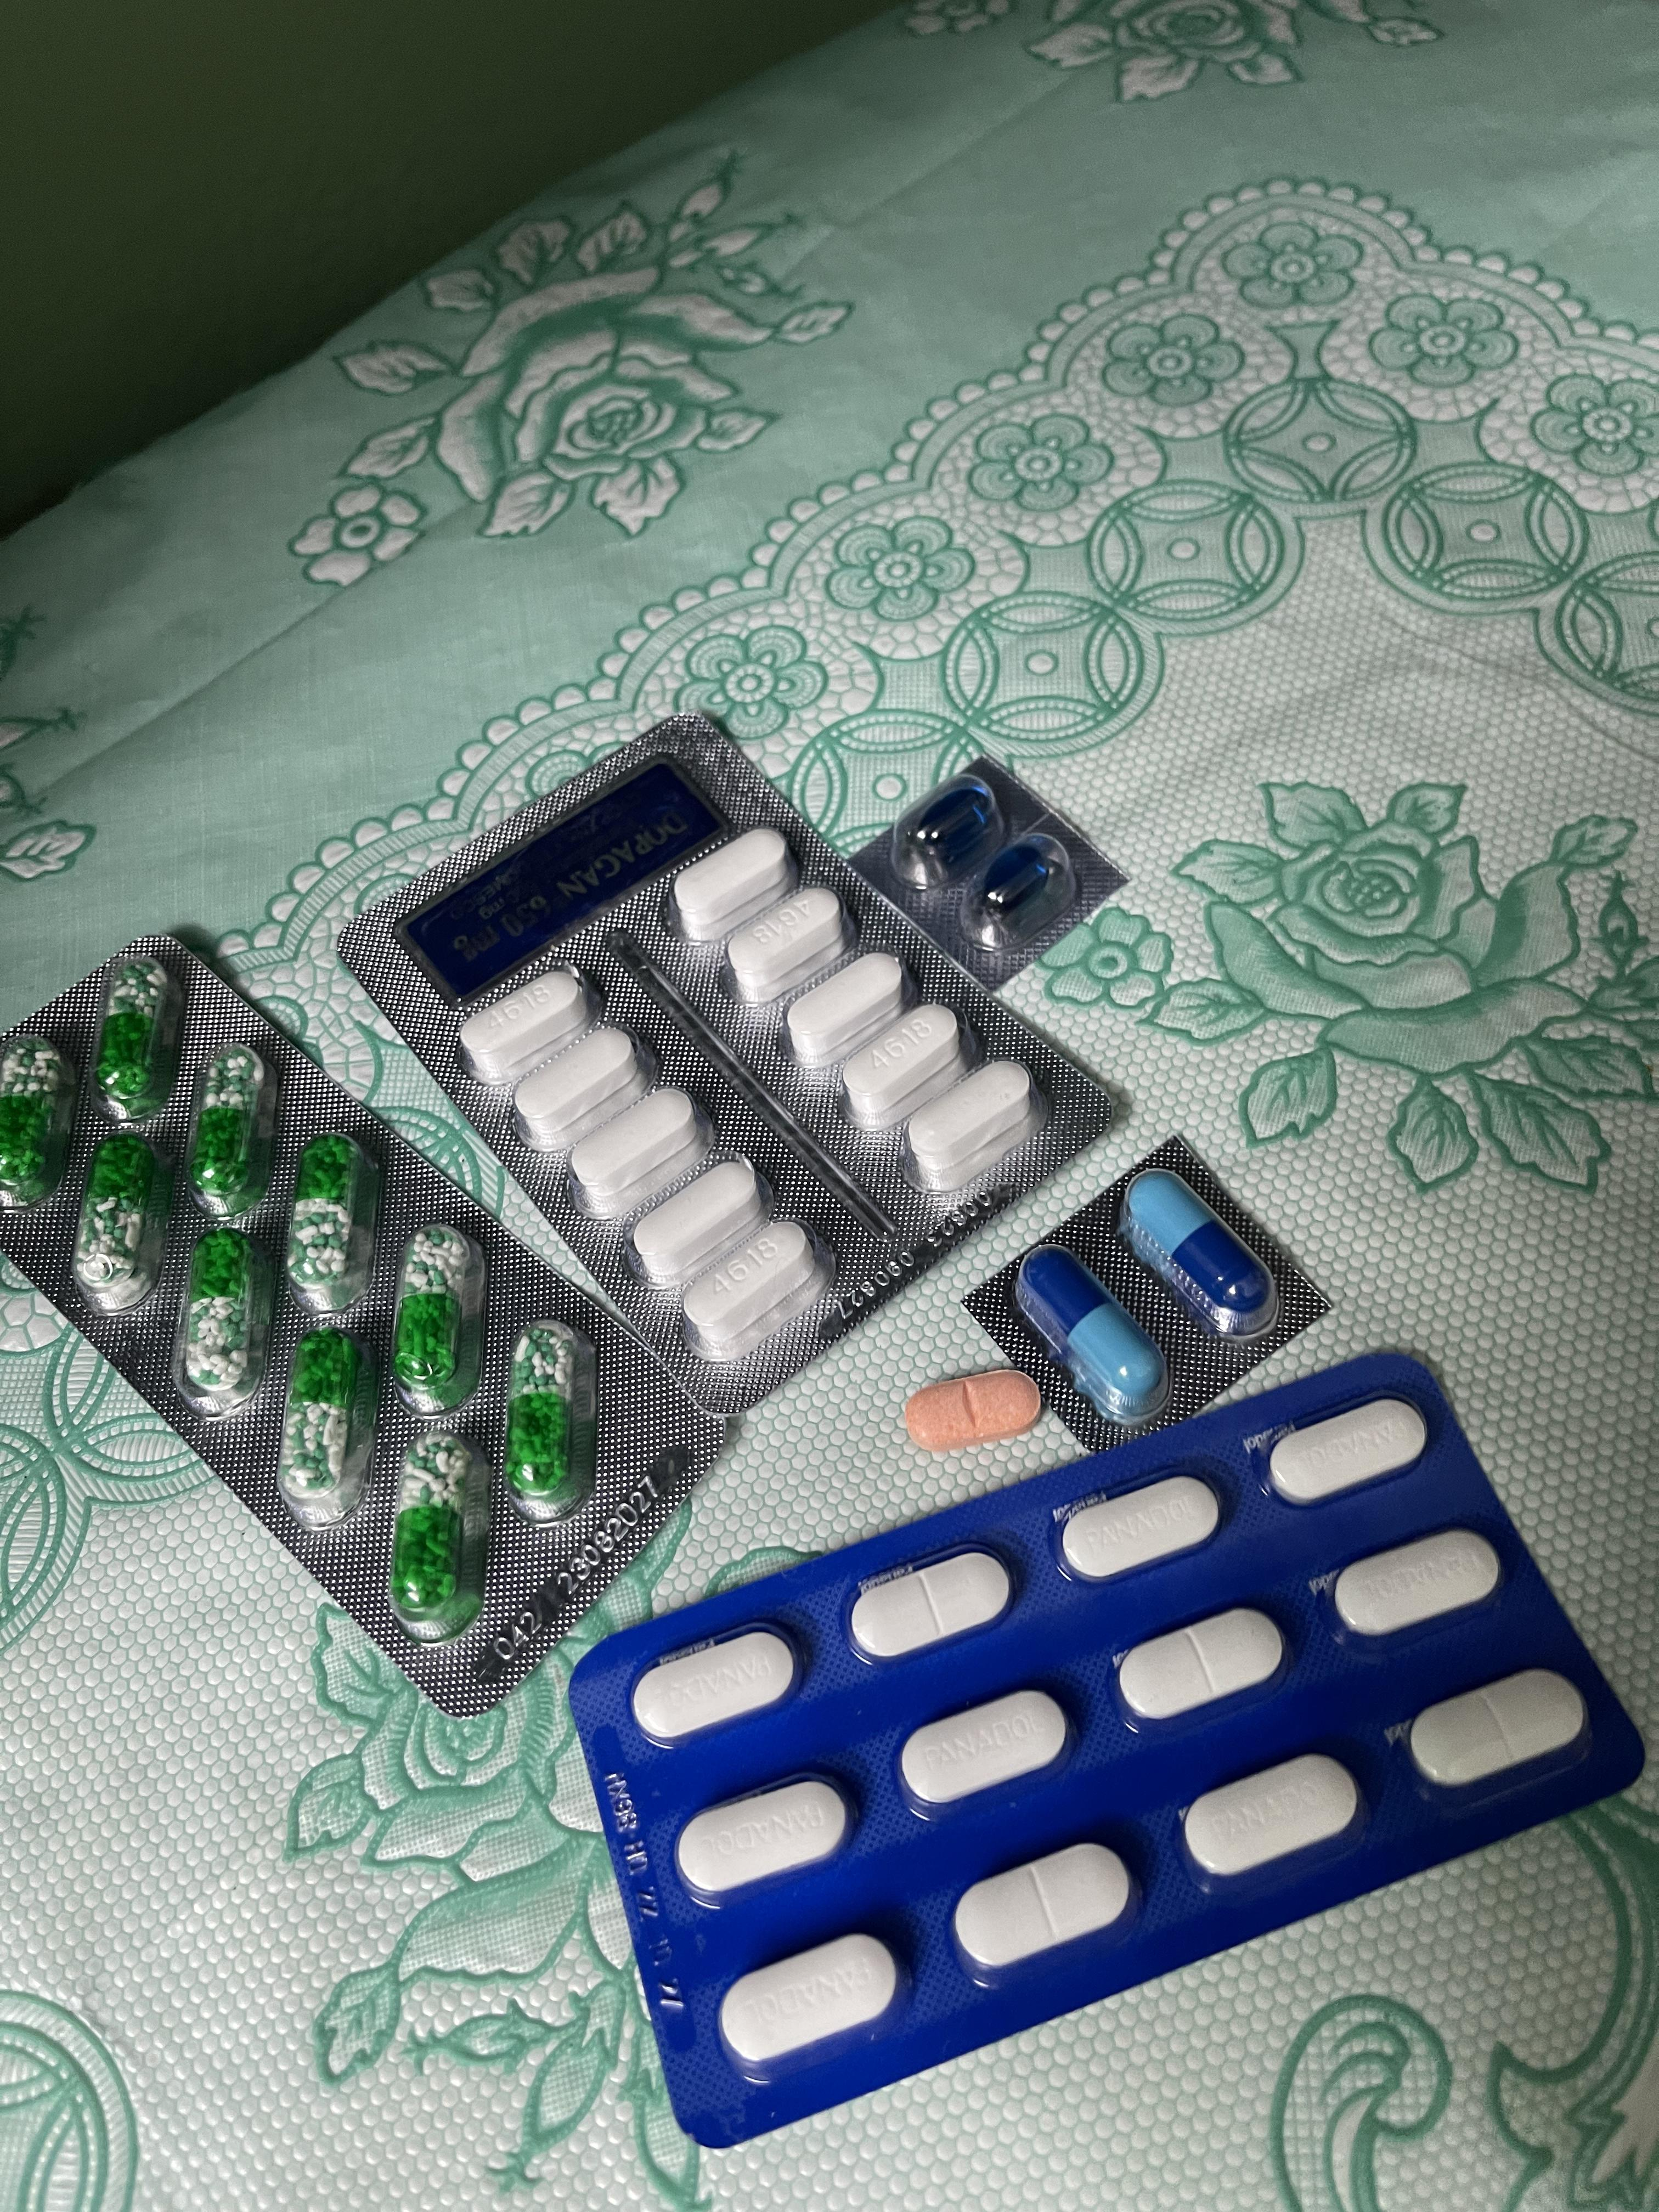Lincomyxin_500mg: (910, 784, 997, 867), (979, 841, 1061, 920)
Loratadine_10mg: (901, 1369, 1040, 1453)
Paracetamol_350mg: (953, 1839, 1138, 1980), (716, 1932, 899, 2069), (1180, 1754, 1361, 1885), (674, 1771, 854, 1902), (1406, 1670, 1593, 1792), (897, 1688, 1070, 1813), (631, 1625, 798, 1745), (1115, 1606, 1284, 1723), (849, 1550, 1014, 1665), (1330, 1529, 1500, 1639), (1054, 1474, 1220, 1580), (1267, 1399, 1427, 1503)
Paracetamol_500mg: (681, 1219, 824, 1362), (836, 989, 967, 1136), (566, 1089, 706, 1221), (906, 1062, 1039, 1198), (633, 1162, 769, 1289), (786, 953, 913, 1082), (509, 1024, 641, 1148), (457, 967, 591, 1089), (725, 885, 849, 1008), (667, 827, 798, 944)
Paracetamol_650mg: (383, 1432, 484, 1630), (279, 1327, 371, 1526), (387, 1226, 481, 1411), (71, 1129, 169, 1306), (507, 1318, 594, 1508), (286, 1125, 376, 1306), (186, 1043, 277, 1219), (179, 1228, 267, 1402), (94, 954, 178, 1113), (0, 1042, 73, 1209)
pill: (1019, 1247, 1171, 1428), (1124, 1170, 1274, 1341)
